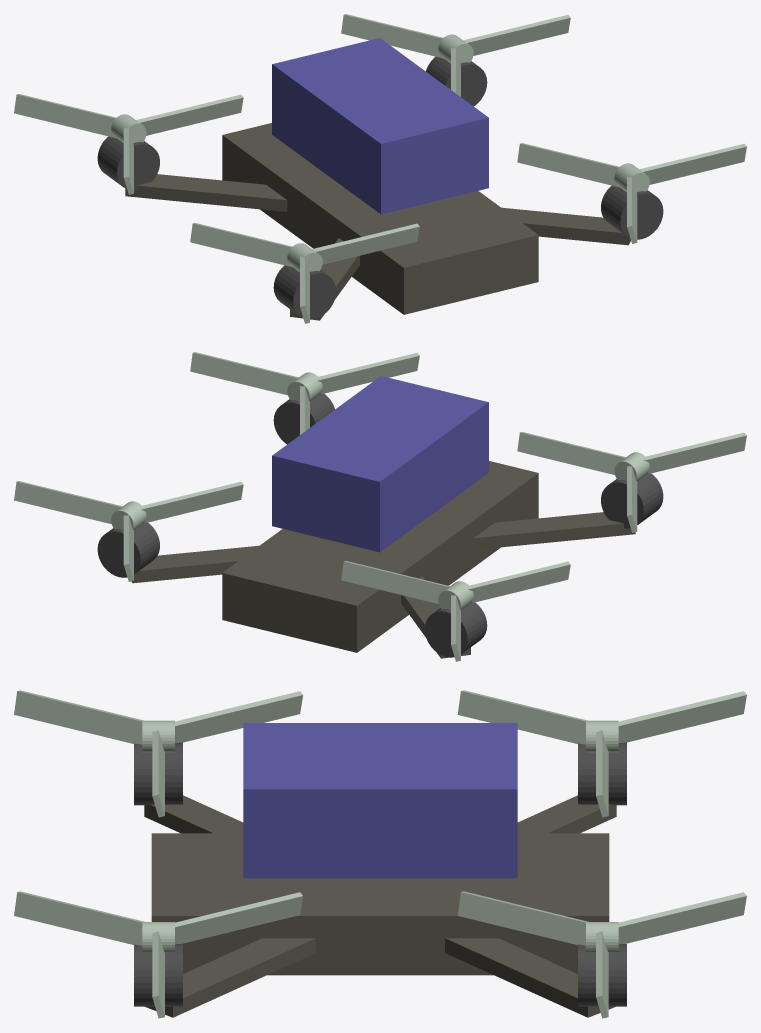
Rendered from Fox Crooked.glb.
3 views of the same model, one above another, from view 1: azimuth 30°, elevation 25°; view 2: azimuth 150°, elevation 25°; view 3: azimuth 270°, elevation 25° (orthographic). The views are drawn at different scales.
Parts seen in each view (by area): view 1: battery, frame_body, prop_0, prop_3, prop_2, prop_1, arm_3, arm_0, motor_2, motor_0, motor_3, motor_1 (+1 smaller); view 2: battery, frame_body, prop_2, prop_1, prop_3, prop_0, arm_2, arm_1, motor_3, motor_1, motor_2, motor_0 (+1 smaller); view 3: battery, frame_body, prop_1, prop_0, prop_2, prop_3, arm_1, arm_0, arm_3, arm_2, motor_1, motor_0 (+2 smaller).
Part boxes in pixels (x1,y1,x2,y2): battery: [272, 38, 488, 214]; frame_body: [222, 123, 538, 314]; prop_0: [517, 143, 746, 243]; prop_3: [14, 94, 243, 194]; prop_2: [190, 223, 419, 323]; prop_1: [341, 14, 570, 96]; arm_3: [125, 174, 287, 211]; arm_0: [502, 207, 630, 245]; motor_2: [273, 265, 336, 319]; motor_0: [601, 185, 663, 239]; motor_3: [97, 136, 159, 190]; motor_1: [426, 56, 487, 106]; battery: [272, 376, 488, 552]; frame_body: [222, 461, 538, 652]; prop_2: [517, 432, 746, 532]; prop_1: [14, 481, 243, 581]; prop_3: [341, 561, 570, 661]; prop_0: [190, 352, 419, 434]; arm_2: [473, 512, 635, 549]; arm_1: [131, 545, 258, 583]; motor_3: [424, 602, 487, 657]; motor_1: [97, 522, 159, 577]; motor_2: [601, 473, 663, 528]; motor_0: [273, 393, 334, 444]; battery: [243, 723, 517, 878]; frame_body: [151, 833, 609, 975]; prop_1: [457, 891, 746, 1018]; prop_0: [14, 891, 303, 1018]; prop_2: [14, 690, 303, 817]; prop_3: [457, 690, 746, 817]; arm_1: [445, 938, 615, 1017]; arm_0: [145, 938, 315, 1017]; arm_3: [517, 795, 616, 833]; arm_2: [144, 795, 243, 833]; motor_1: [578, 944, 626, 1006]; motor_0: [134, 944, 182, 1006].
Size of the model in its own units: 0.2223 by 0.06 by 0.2243.
